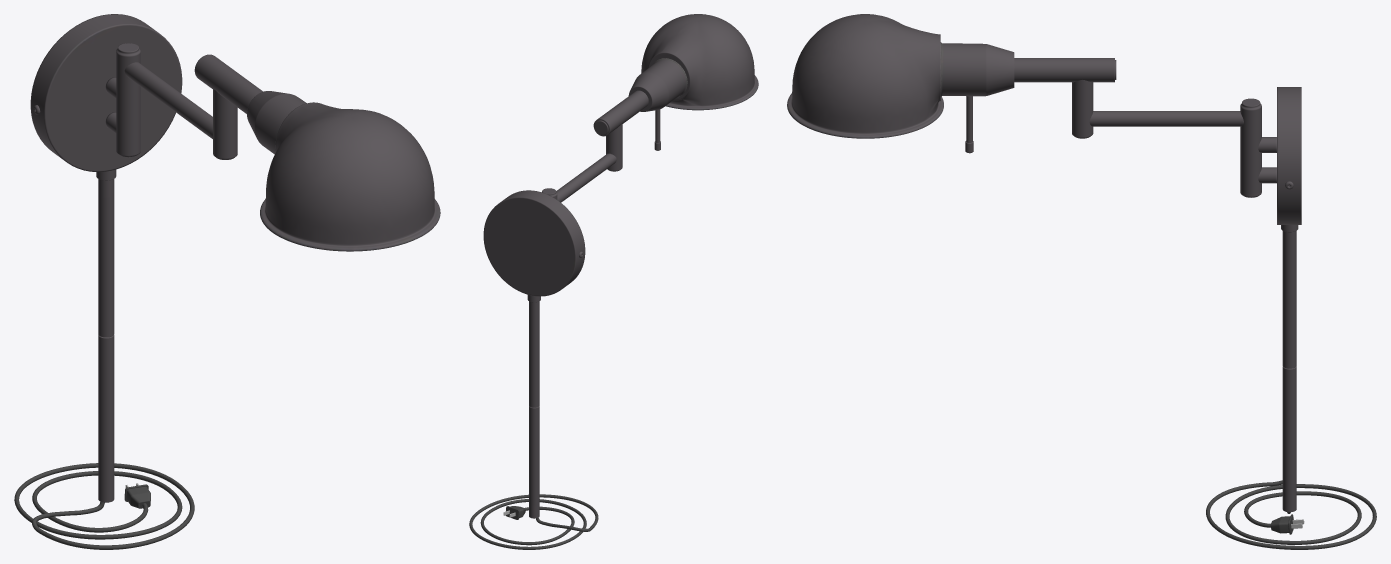
The model's file is abo-B0825DBY3C.glb.
3 views of the same model, side by side, from view 1: azimuth 30°, elevation 25°; view 2: azimuth 150°, elevation 25°; view 3: azimuth 270°, elevation 25° (orthographic). The views are drawn at different scales.
Size of the model in its own units: 0.147 by 0.512 by 0.5519.
1 material, 1 textured.
